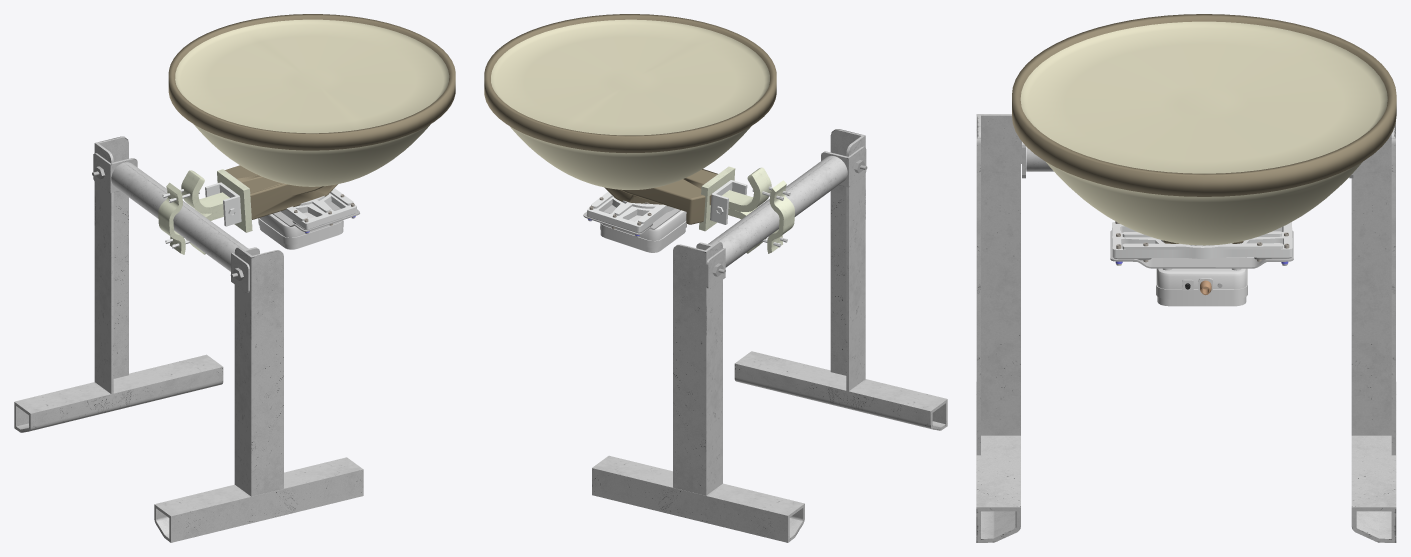
The model's file is Antena microwave.fbx.
The picture shows the model from 3 angles, left to right: view 1: azimuth 30°, elevation 25°; view 2: azimuth 150°, elevation 25°; view 3: azimuth 270°, elevation 25°; orthographic projection. The views are drawn at different scales.
Parts seen in each view (by area): view 1: belakang_microwave_antenna, Rigid_T, Cylinder, Cube_001, Interface_Plate1__1_, Mount_Kit, Cube_005_1, Cube_2, Cube_002_2; view 2: belakang_microwave_antenna, Rigid_T, Cylinder, Interface_Plate1__1_, Cube_001, Mount_Kit, Cube_005_1, Cube_002_2, Cube_2; view 3: belakang_microwave_antenna, Rigid_T, Interface_Plate1__1_, Cube_001, Cube_004, Cylinder.
Boxes of the visible parts, x1,y1,x2,y2 form: belakang_microwave_antenna: [168, 14, 455, 219]; Rigid_T: [14, 136, 363, 542]; Cylinder: [93, 153, 259, 292]; Cube_001: [258, 212, 343, 249]; Interface_Plate1__1_: [281, 188, 357, 229]; Mount_Kit: [181, 170, 229, 254]; Cube_005_1: [158, 182, 185, 254]; Cube_2: [217, 169, 252, 232]; Cube_002_2: [205, 182, 241, 226]; belakang_microwave_antenna: [484, 14, 776, 224]; Rigid_T: [592, 129, 947, 542]; Cylinder: [696, 146, 866, 288]; Interface_Plate1__1_: [586, 191, 674, 232]; Cube_001: [600, 210, 686, 252]; Mount_Kit: [722, 167, 771, 253]; Cube_005_1: [767, 180, 794, 253]; Cube_002_2: [710, 180, 747, 224]; Cube_2: [699, 166, 735, 231]; belakang_microwave_antenna: [1012, 14, 1396, 245]; Rigid_T: [976, 114, 1396, 542]; Interface_Plate1__1_: [1112, 222, 1292, 258]; Cube_001: [1156, 257, 1247, 306]; Cube_004: [1110, 230, 1293, 268]; Cylinder: [1021, 140, 1353, 178].
Size of the model in its own units: 75.73 by 72.39 by 58.68.
